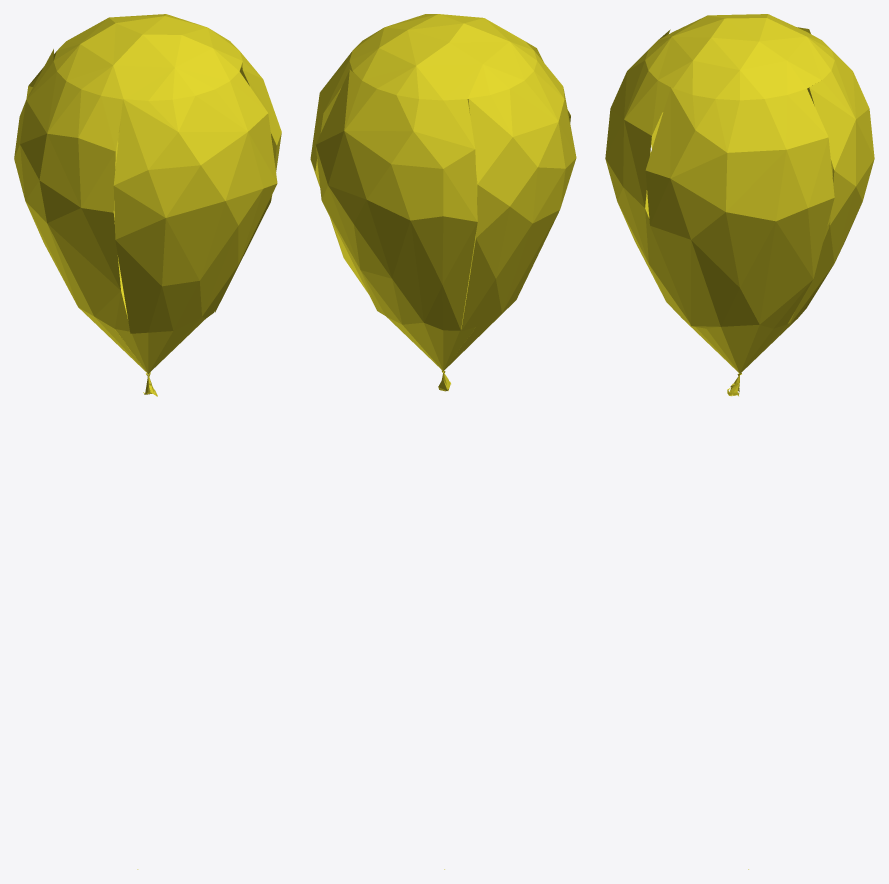
The model's file is globo_amarillo.obj.
The picture shows the model from 3 angles, left to right: view 1: azimuth 30°, elevation 25°; view 2: azimuth 150°, elevation 25°; view 3: azimuth 270°, elevation 25°; orthographic projection.
Visible parts, largest first — view 1: globo:Mesh; view 2: globo:Mesh; view 3: globo:Mesh.
Part boxes in pixels (<box>): globo:Mesh: <box>14,14,281,869</box>; globo:Mesh: <box>310,14,576,869</box>; globo:Mesh: <box>605,14,874,869</box>.
Bounding box in the file's own units: 0.0318 × 0.1102 × 0.0317.
